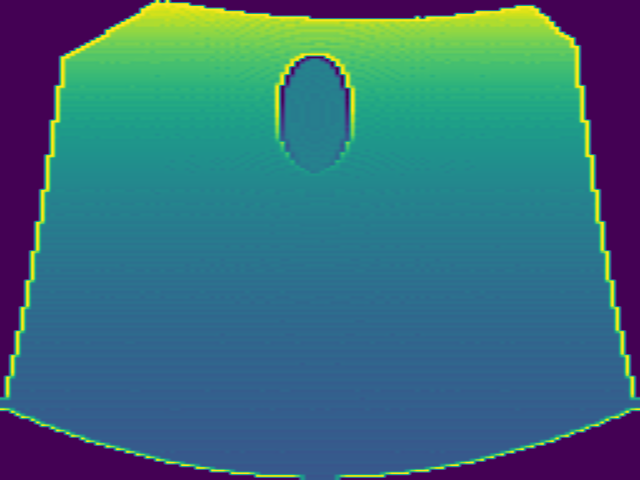sphere: (274, 53, 355, 175)
